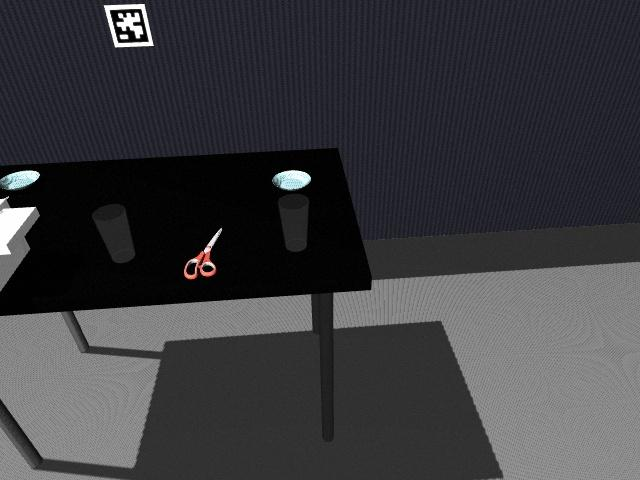cup: (91, 203, 135, 263), (278, 194, 310, 251)
plate: (270, 169, 312, 191), (0, 169, 42, 191)
scissors: (182, 225, 224, 280)
